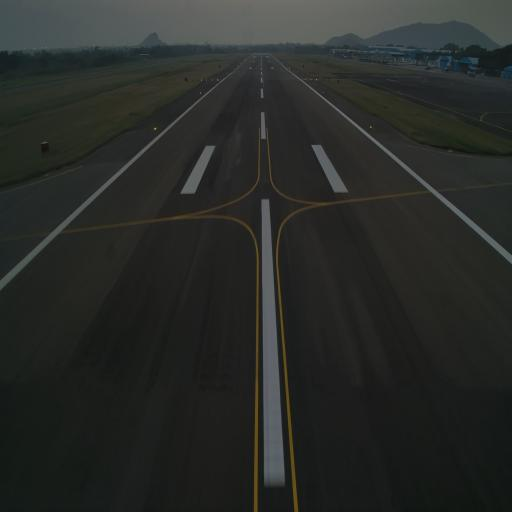on: (153, 127, 157, 132), (369, 124, 372, 130), (322, 91, 325, 95), (199, 91, 202, 95)
